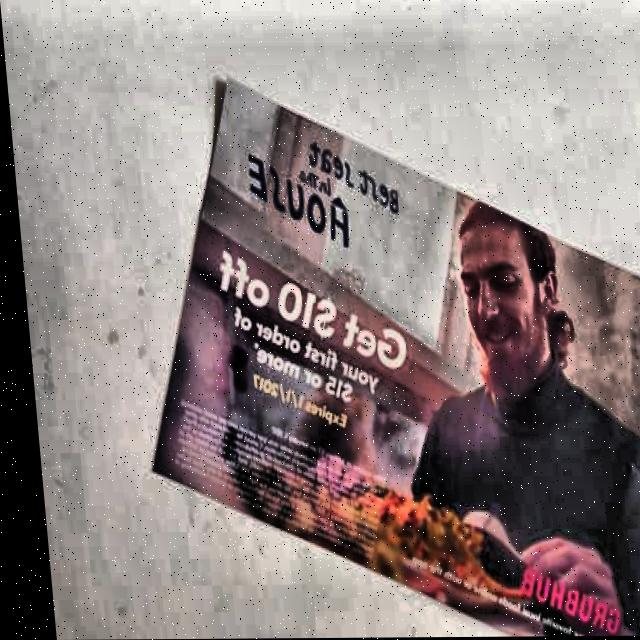paper: (116, 67, 640, 639)
